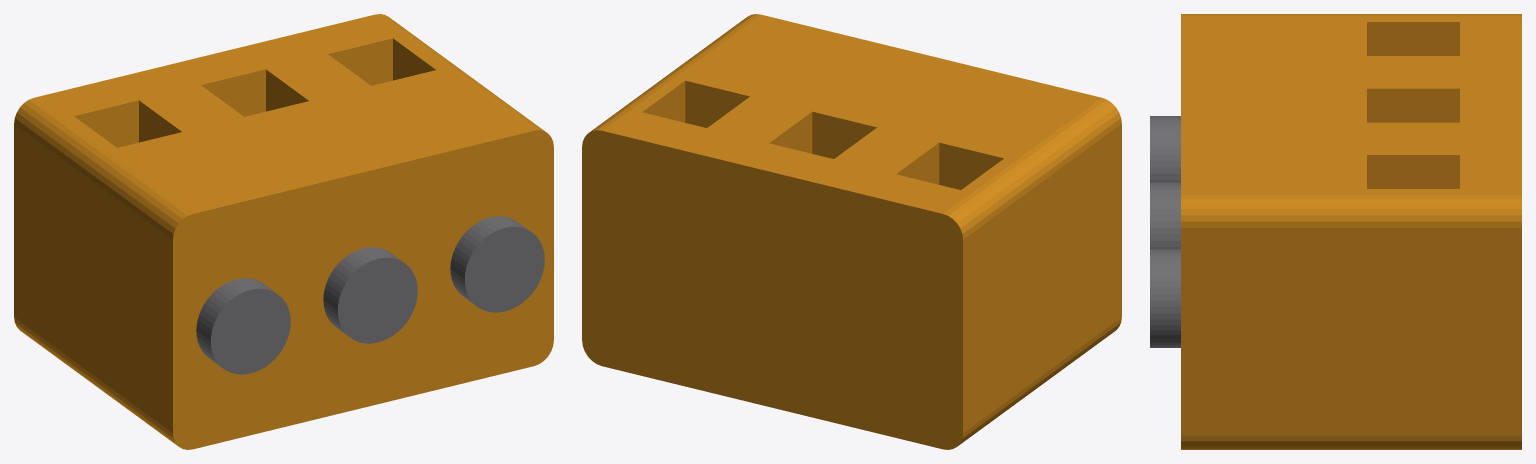
The model's file is ref_borne_3p.glb.
3 views of the same model, side by side, from view 1: azimuth 30°, elevation 25°; view 2: azimuth 150°, elevation 25°; view 3: azimuth 270°, elevation 25° (orthographic). The views are drawn at different scales.
Visible parts, largest first — view 1: cuerpo, tornillos; view 2: cuerpo; view 3: cuerpo, tornillos.
Part boxes in pixels (x1,y1,x2,y2): cuerpo: (14,14,553,449); tornillos: (196,216,544,374); cuerpo: (582,14,1121,449); cuerpo: (1181,14,1521,449); tornillos: (1150,116,1180,347).
Size of the model in its own units: 15.24 by 9 by 12.
